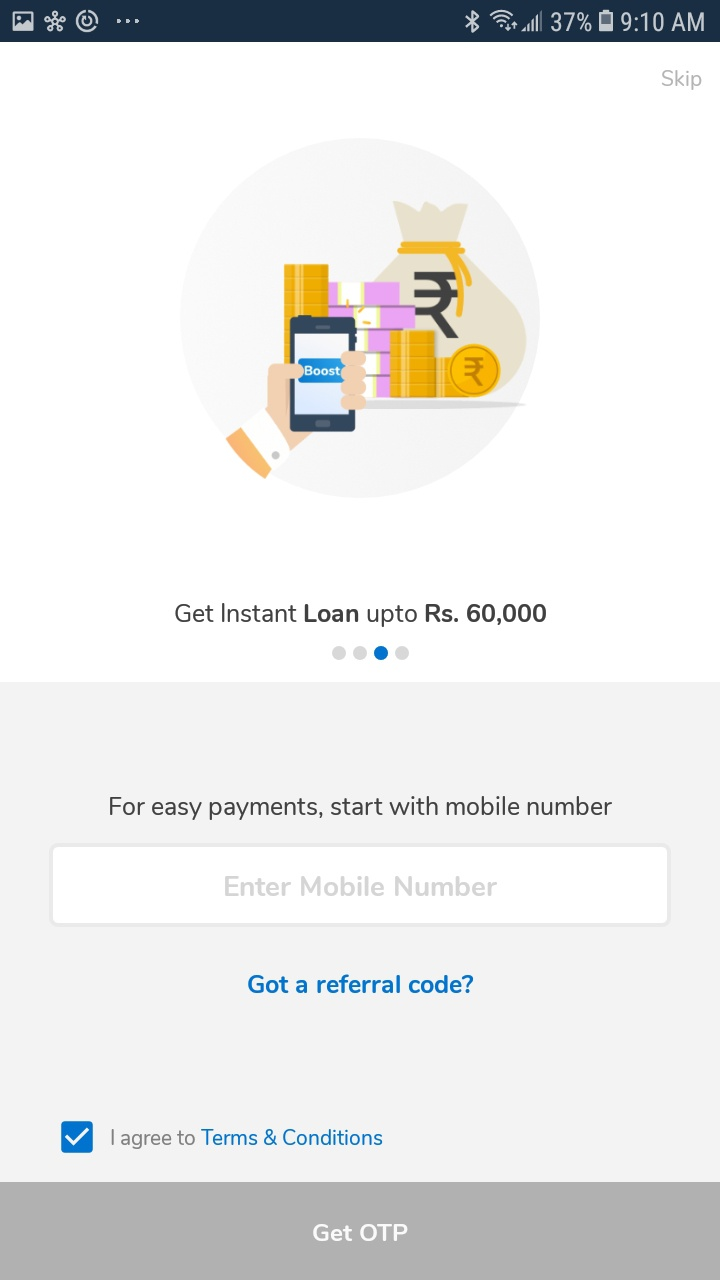CheckedTextView: (61, 1120, 383, 1154)
EditText: (49, 843, 671, 928)
Image: (180, 138, 541, 500)
PageIndicator: (332, 646, 410, 661)
Text: (110, 796, 612, 821), (176, 603, 547, 628), (226, 875, 498, 897), (112, 1128, 383, 1150), (248, 974, 474, 994), (662, 70, 702, 91)
TextButton: (1, 1182, 720, 1280)
UpperTaskBar: (1, 1, 720, 43)
